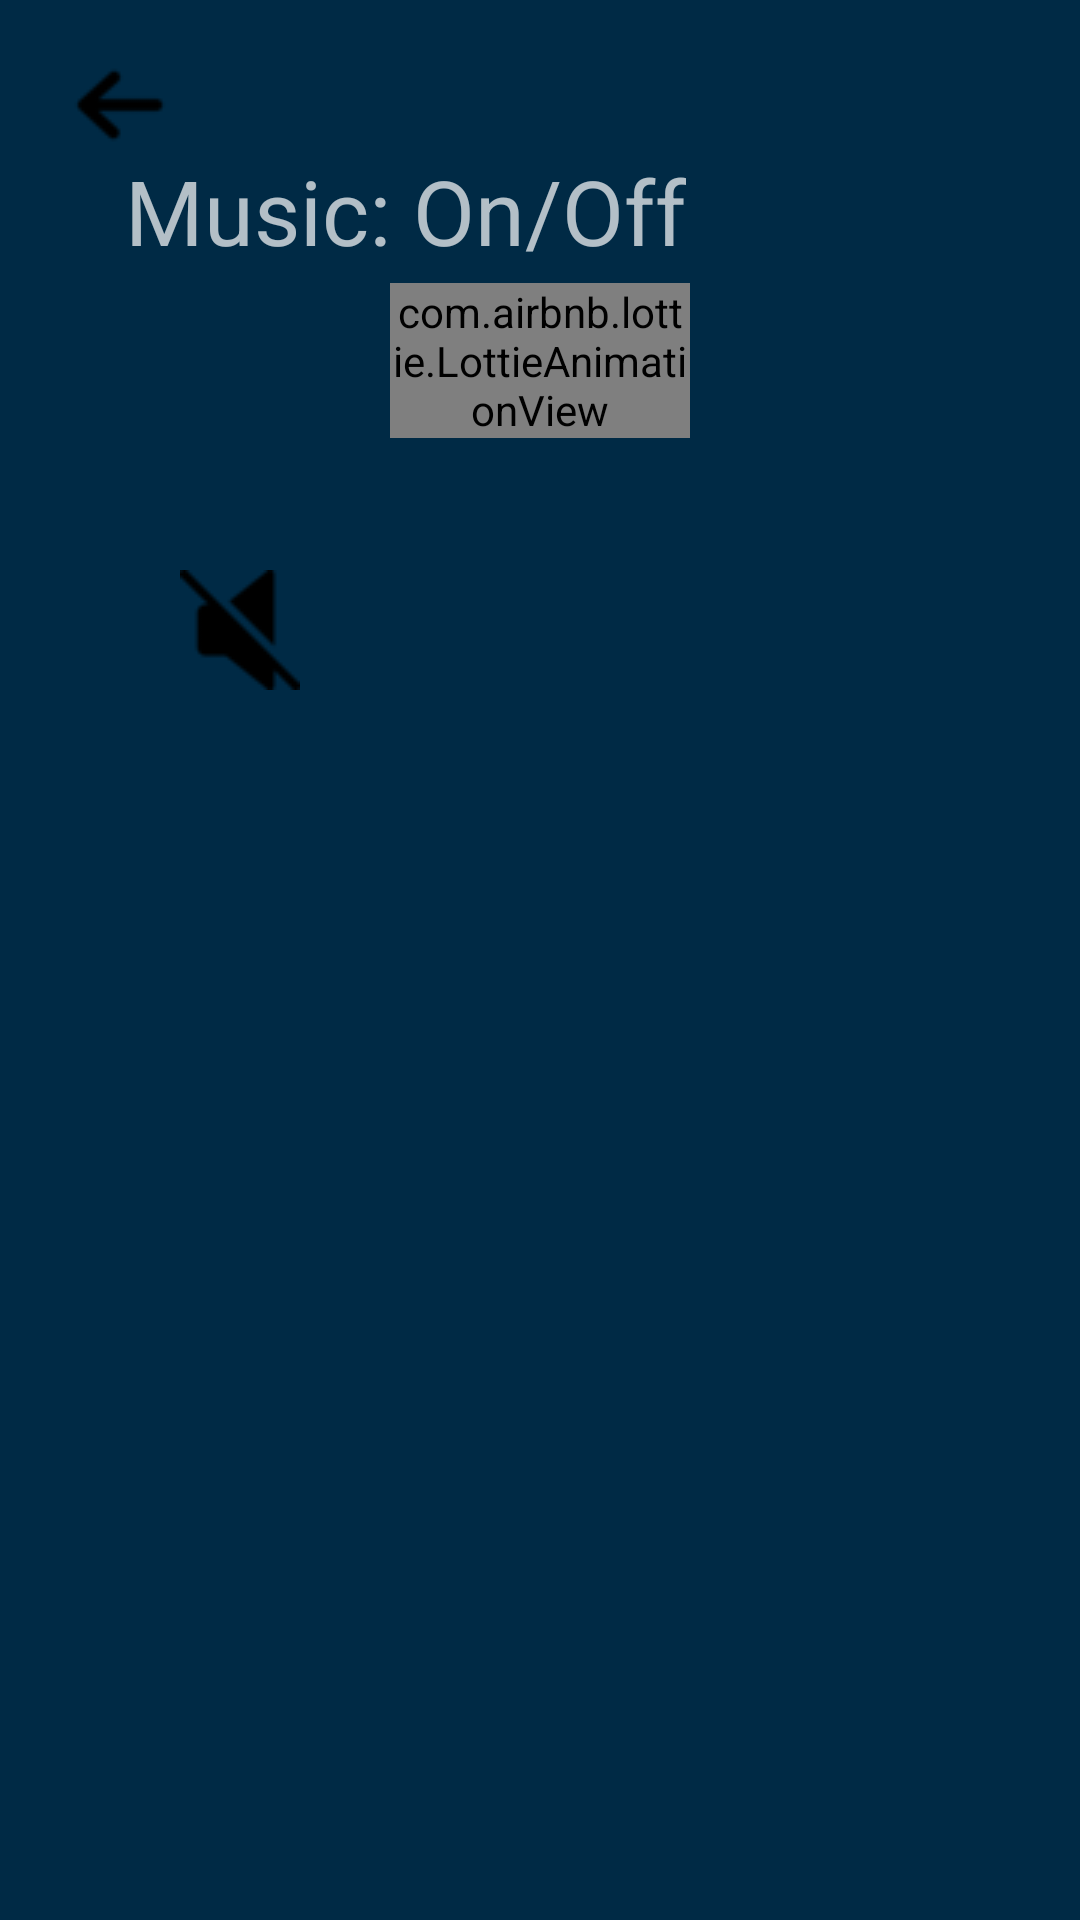

Icon click points for this 1080 x 1920 phone screenshot, format [x,y]:
back: [120,105]
mute: [240,630]
